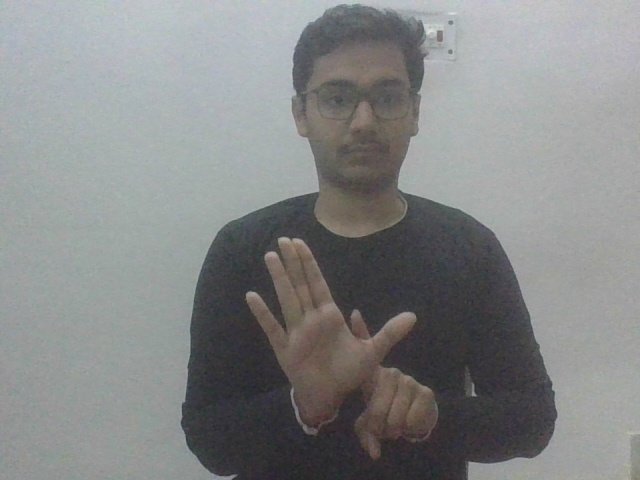Y: (248, 233, 443, 457)
